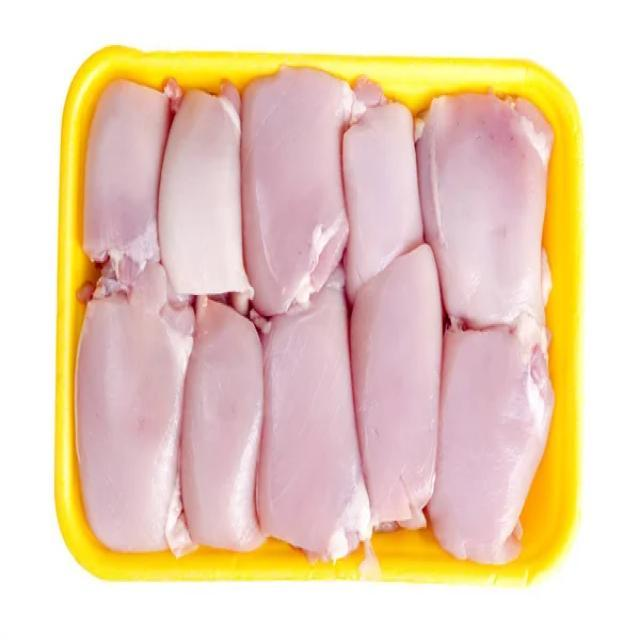thigh: (80, 82, 171, 270)
